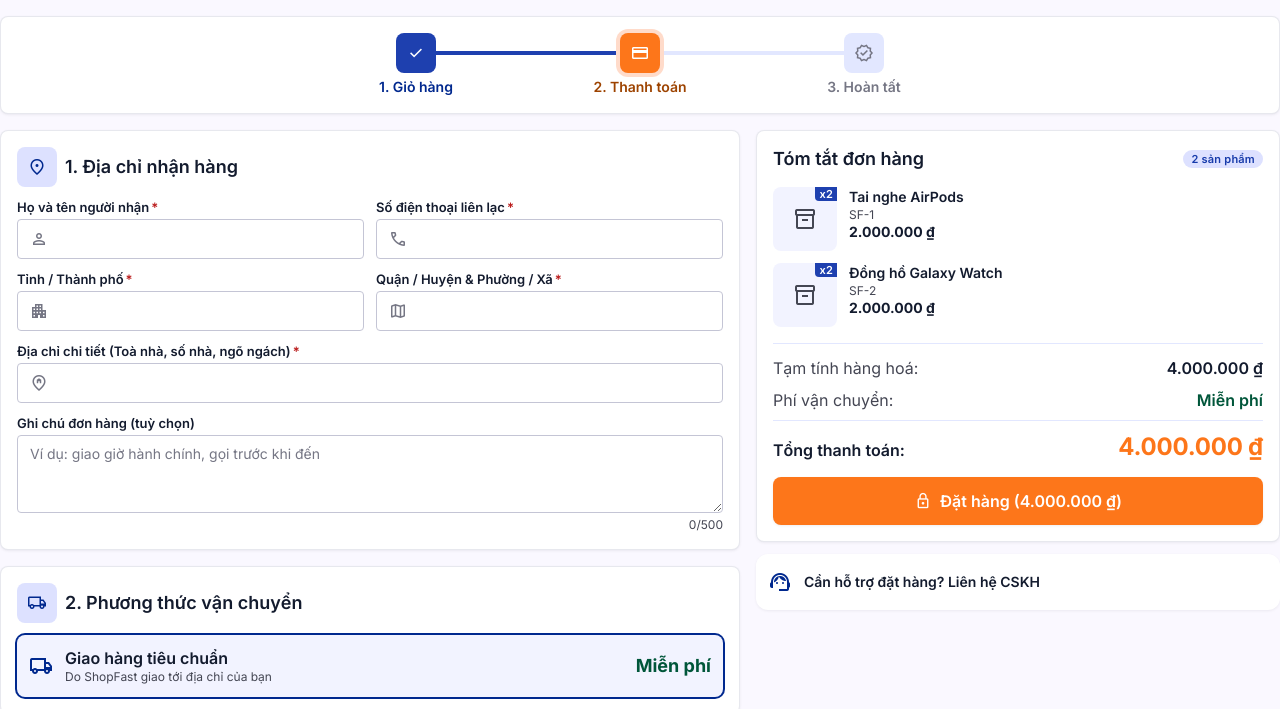
Test: CheckoutPage › bỏ trống form → lỗi từng ô, focus ô đầu, không gọi API
Expected: the text "Tai nghe AirPods" is shown, [849, 188, 964, 205]
Click the button "Đặt hàng (4.000.000 ₫)": (1018, 501) [773, 477, 1263, 525]
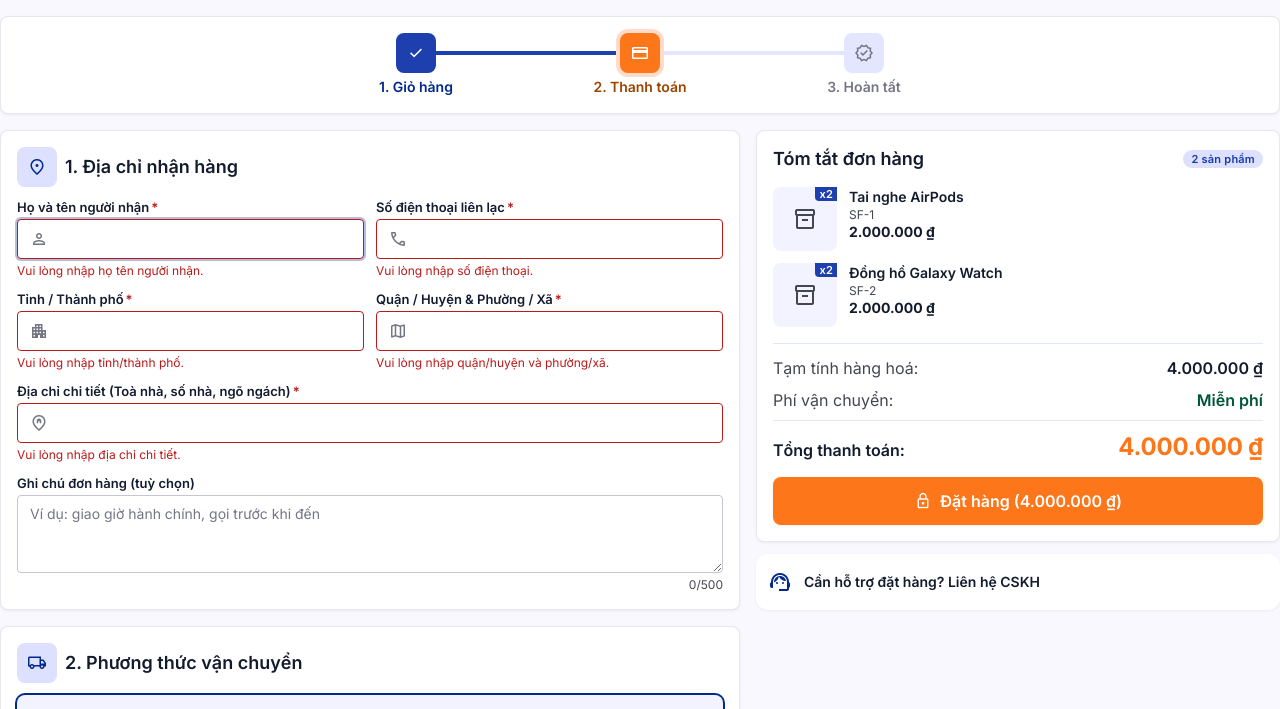
Now the text "Vui lòng nhập họ tên người nhận." is shown, box [17, 263, 204, 278]
Now the text "Vui lòng nhập số điện thoại." is shown, box [376, 263, 533, 278]
Now the text "Vui lòng nhập địa chỉ chi tiết." is shown, box [17, 447, 181, 462]
